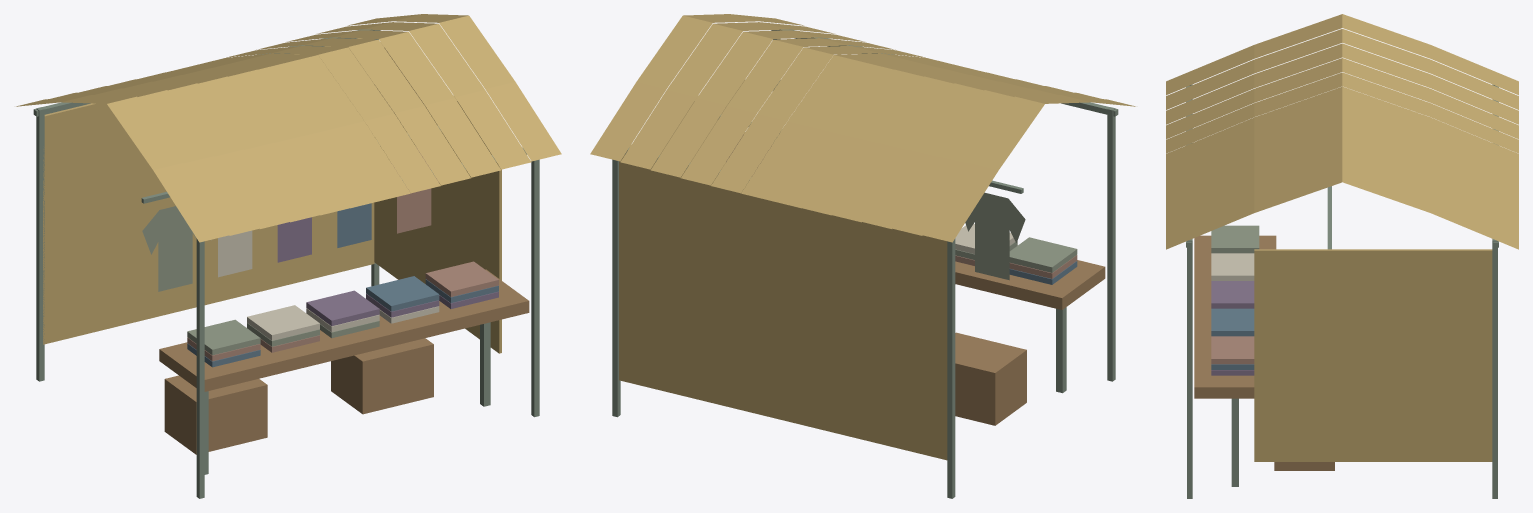
Rendered from stall_ochre.glb.
The picture shows the model from 3 angles, left to right: view 1: azimuth 30°, elevation 25°; view 2: azimuth 150°, elevation 25°; view 3: azimuth 270°, elevation 25°; orthographic projection. The views are drawn at different scales.
Visible parts, largest first — view 1: stall_ochre; view 2: stall_ochre; view 3: stall_ochre.
Part boxes in pixels (left/top/right/bottom): stall_ochre: left=16, top=14, right=561, bottom=498; stall_ochre: left=590, top=14, right=1135, bottom=498; stall_ochre: left=1166, top=14, right=1518, bottom=498.
Size of the model in its own units: 3.16 by 2.82 by 2.8.
